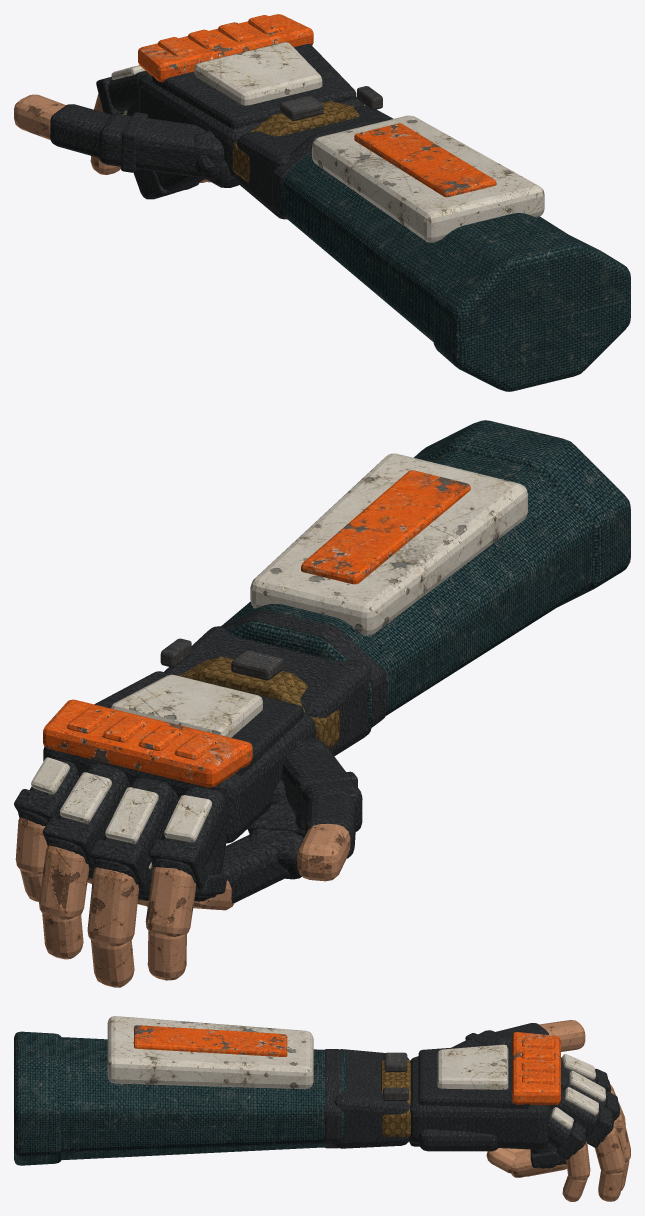
Rendered from hands.glb.
3 renders of one model, top to bottom at view 1: azimuth 30°, elevation 25°; view 2: azimuth 150°, elevation 25°; view 3: azimuth 270°, elevation 25°, orthographic. The views are drawn at different scales.
Visible parts, largest first — view 1: grip | suit fabric, grip | ceramic armor, grip | glove leather, grip | knuckle plate, support | glove leather, grip | webbing, support | skin, grip | hardware; view 2: grip | suit fabric, grip | glove leather, grip | ceramic armor, grip | knuckle plate, support | skin, support | glove leather, support | ceramic armor, grip | webbing, grip | hardware; view 3: grip | suit fabric, grip | glove leather, grip | ceramic armor, grip | knuckle plate, support | glove leather, support | skin, support | ceramic armor, grip | webbing, grip | skin, grip | hardware.
Boxes of the visible parts, x1=… form: grip | suit fabric: x1=281, y1=138, x2=630, y2=391; grip | ceramic armor: x1=124, y1=42, x2=544, y2=242; grip | glove leather: x1=127, y1=44, x2=393, y2=219; grip | knuckle plate: x1=138, y1=14, x2=496, y2=197; support | glove leather: x1=50, y1=70, x2=224, y2=179; grip | webbing: x1=233, y1=101, x2=359, y2=182; support | skin: x1=14, y1=93, x2=124, y2=174; grip | hardware: x1=280, y1=86, x2=382, y2=120; grip | suit fabric: x1=222, y1=420, x2=630, y2=723; grip | glove leather: x1=43, y1=609, x2=386, y2=903; grip | ceramic armor: x1=111, y1=453, x2=527, y2=869; grip | knuckle plate: x1=43, y1=470, x2=470, y2=787; support | skin: x1=15, y1=817, x2=350, y2=987; support | glove leather: x1=14, y1=738, x2=362, y2=889; support | ceramic armor: x1=31, y1=757, x2=211, y2=843; grip | webbing: x1=178, y1=656, x2=339, y2=748; grip | hardware: x1=160, y1=638, x2=283, y2=680; grip | suit fabric: x1=14, y1=1031, x2=347, y2=1165; grip | glove leather: x1=323, y1=1043, x2=566, y2=1168; grip | ceramic armor: x1=107, y1=1016, x2=508, y2=1089; grip | knuckle plate: x1=134, y1=1025, x2=560, y2=1104; support | glove leather: x1=452, y1=1023, x2=620, y2=1159; support | skin: x1=539, y1=1020, x2=630, y2=1201; support | ceramic armor: x1=551, y1=1054, x2=605, y2=1129; grip | webbing: x1=381, y1=1060, x2=410, y2=1137; grip | skin: x1=486, y1=1148, x2=567, y2=1177; grip | hardware: x1=383, y1=1052, x2=408, y2=1100.
Size of the model in its own units: 0.1365 by 0.0973 by 0.3295.
7 materials, 7 textured.
